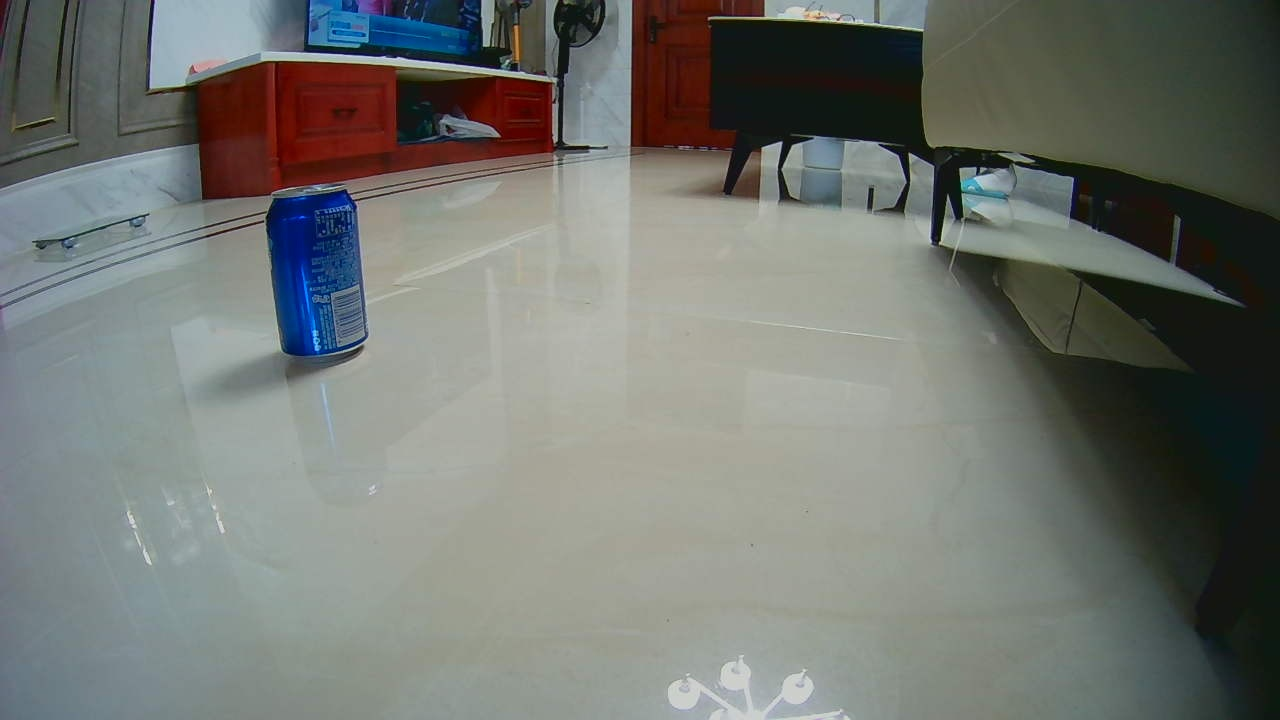pessi: (267, 196, 364, 361)
